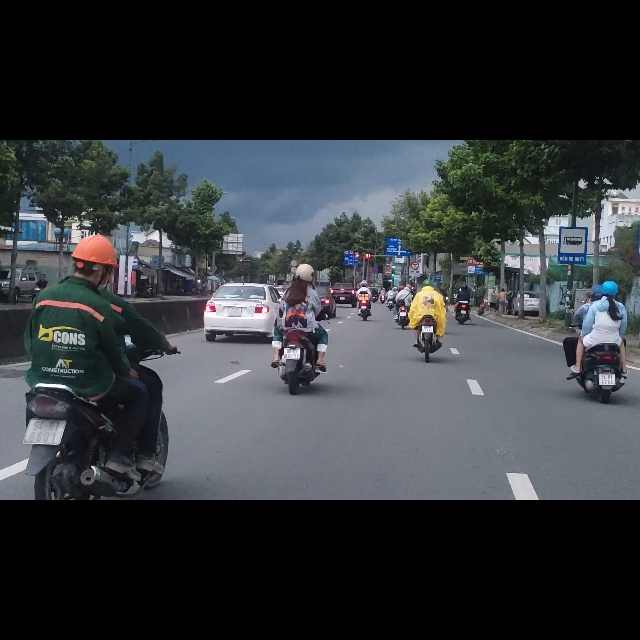bien_cam: (559, 153, 586, 220), (344, 202, 359, 223), (411, 216, 419, 230)
